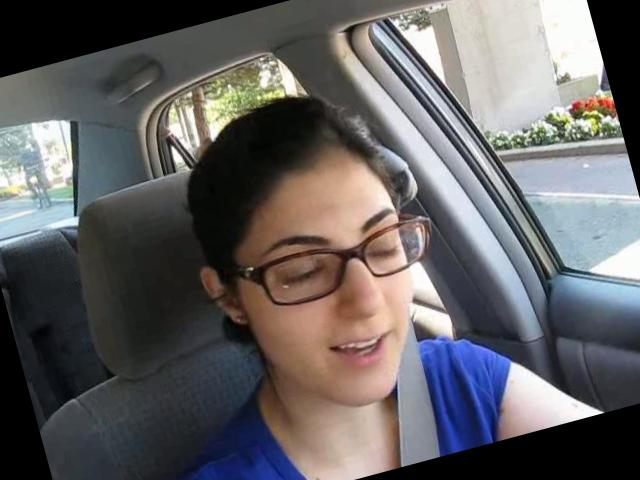eye_closed: (268, 253, 338, 302), (360, 233, 410, 274)
face: (226, 176, 463, 432)
